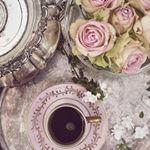cups: (41, 103, 104, 150)
